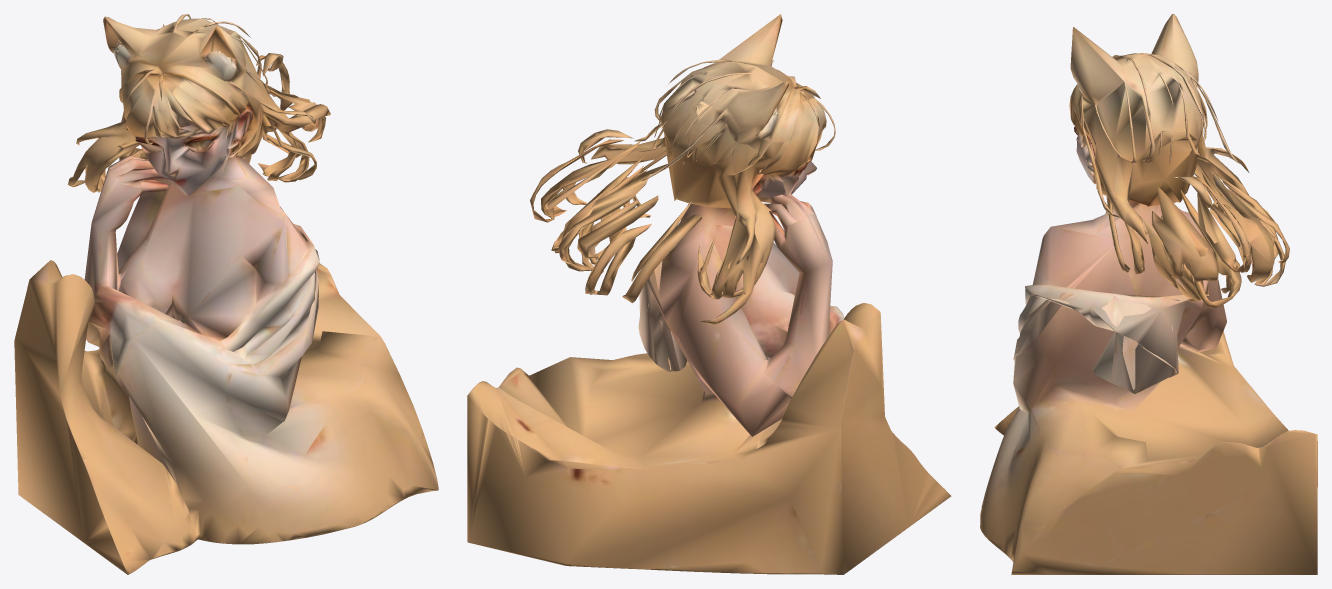
The model's file is girl-28.glb.
3 views of the same model, side by side, from view 1: azimuth 30°, elevation 25°; view 2: azimuth 150°, elevation 25°; view 3: azimuth 270°, elevation 25° (orthographic). The views are drawn at different scales.
Parts seen in each view (by area): view 1: node_0; view 2: node_0; view 3: node_0.
Part boxes in pixels (x1,y1,x2,y2): node_0: (14,14,438,574); node_0: (467,14,951,574); node_0: (980,14,1317,574).
Size of the model in its own units: 0.5978 by 0.8679 by 0.5763.
Materials: 1 (1 with a texture image).
